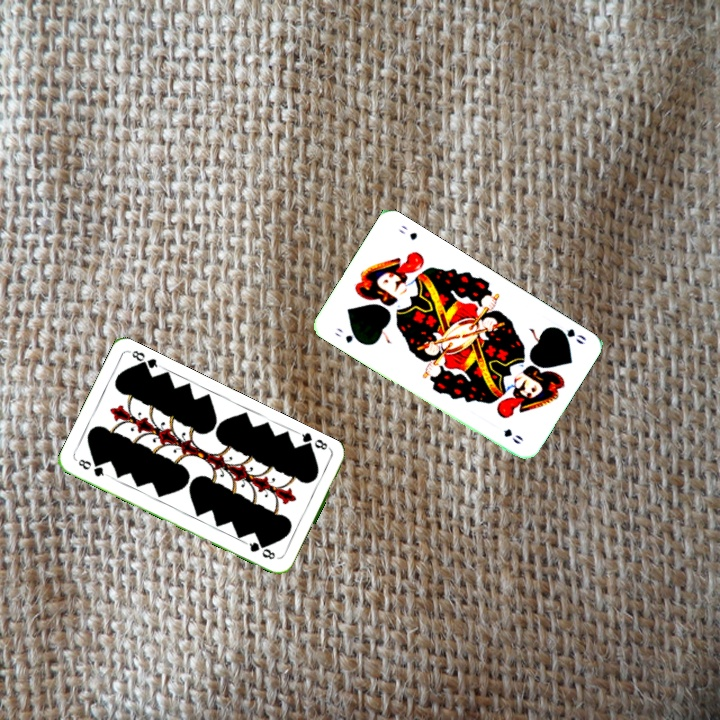G8: (295, 429, 334, 454), (74, 455, 111, 479)
GO: (550, 323, 589, 347), (331, 324, 365, 346)
